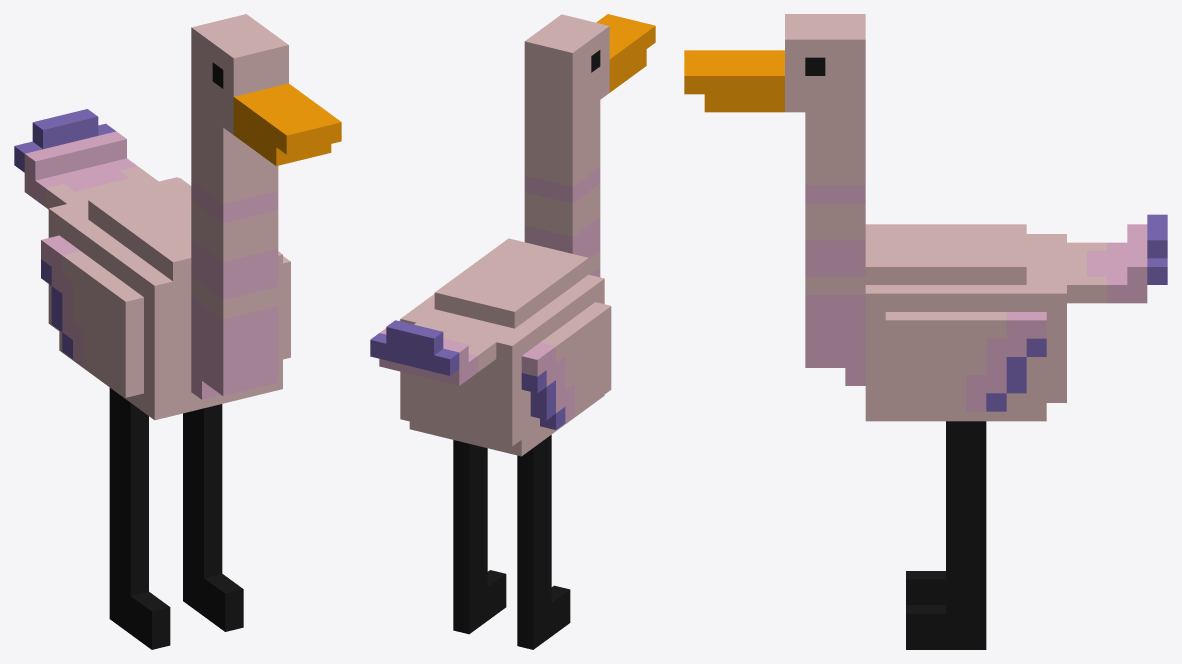
The model's file is lv42 crane.fbx.
3 views of the same model, side by side, from view 1: azimuth 30°, elevation 25°; view 2: azimuth 150°, elevation 25°; view 3: azimuth 270°, elevation 25° (orthographic). The views are drawn at different scales.
Parts seen in each view (by area): view 1: pCube7871, pCube7496, pCube7768, pCube7872, pCube7779, pCube7706, pCube7877, pCube7469, pCube7925, pCube7837, pCube7856, pCube7713 (+50 smaller); view 2: pCube7779, pCube7539, pCube7750, pCube7913, pCube7553, pCube7773, pCube7616, pCube7640, pCube7882, pCube7621, pCube7625, pCube7645 (+42 smaller); view 3: no part large enough to name.
Boxes of the visible parts, x1,y1,x2,y2 form: pCube7871: [214, 581, 243, 612]; pCube7496: [162, 250, 191, 281]; pCube7768: [24, 149, 53, 180]; pCube7872: [141, 599, 170, 630]; pCube7779: [32, 118, 61, 149]; pCube7706: [276, 123, 304, 154]; pCube7877: [223, 46, 251, 77]; pCube7469: [144, 273, 172, 304]; pCube7925: [115, 289, 143, 320]; pCube7837: [193, 417, 222, 443]; pCube7856: [193, 513, 222, 539]; pCube7713: [212, 369, 241, 396]; pCube7779: [418, 328, 443, 355]; pCube7539: [498, 301, 523, 328]; pCube7750: [556, 42, 581, 69]; pCube7913: [521, 349, 546, 376]; pCube7553: [496, 335, 521, 362]; pCube7773: [434, 348, 459, 375]; pCube7616: [556, 230, 581, 253]; pCube7640: [556, 163, 581, 186]; pCube7882: [556, 113, 581, 136]; pCube7621: [556, 197, 581, 220]; pCube7625: [556, 180, 581, 203]; pCube7645: [556, 97, 581, 119].
Size of the model in its own units: 9 by 33 by 24.
